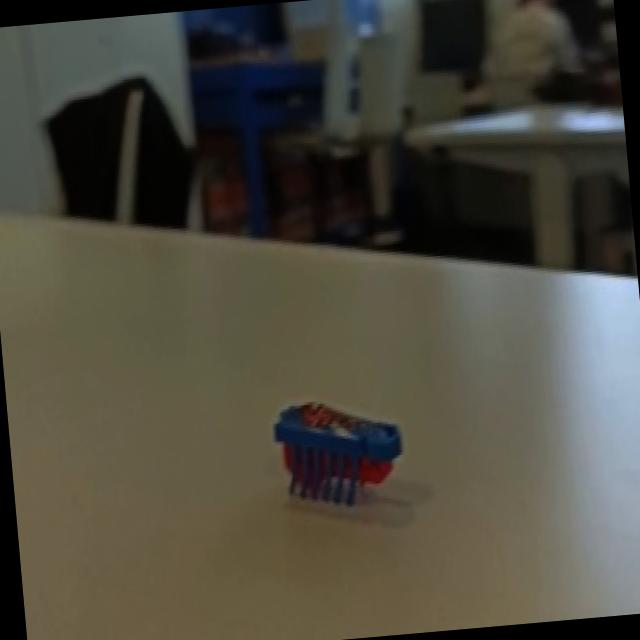1_NanoBug_Azul: (253, 346, 417, 570)
